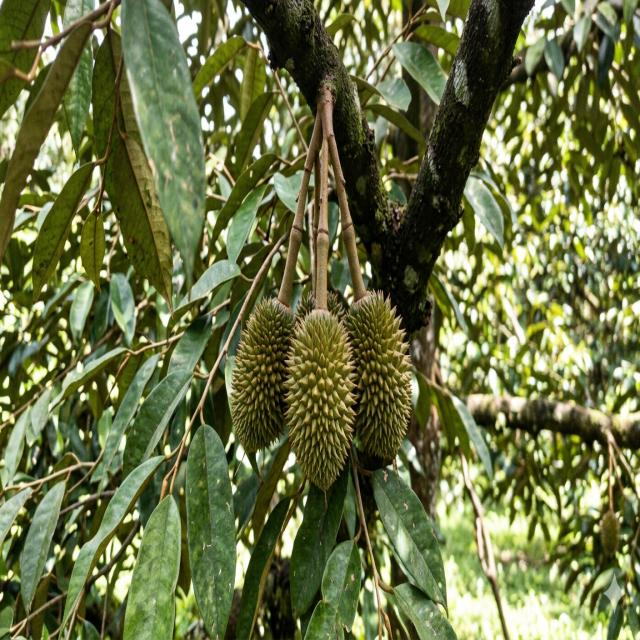immature: (283, 303, 359, 492), (342, 286, 411, 469), (231, 292, 296, 455), (301, 285, 344, 321), (599, 509, 620, 557), (295, 290, 317, 320)
